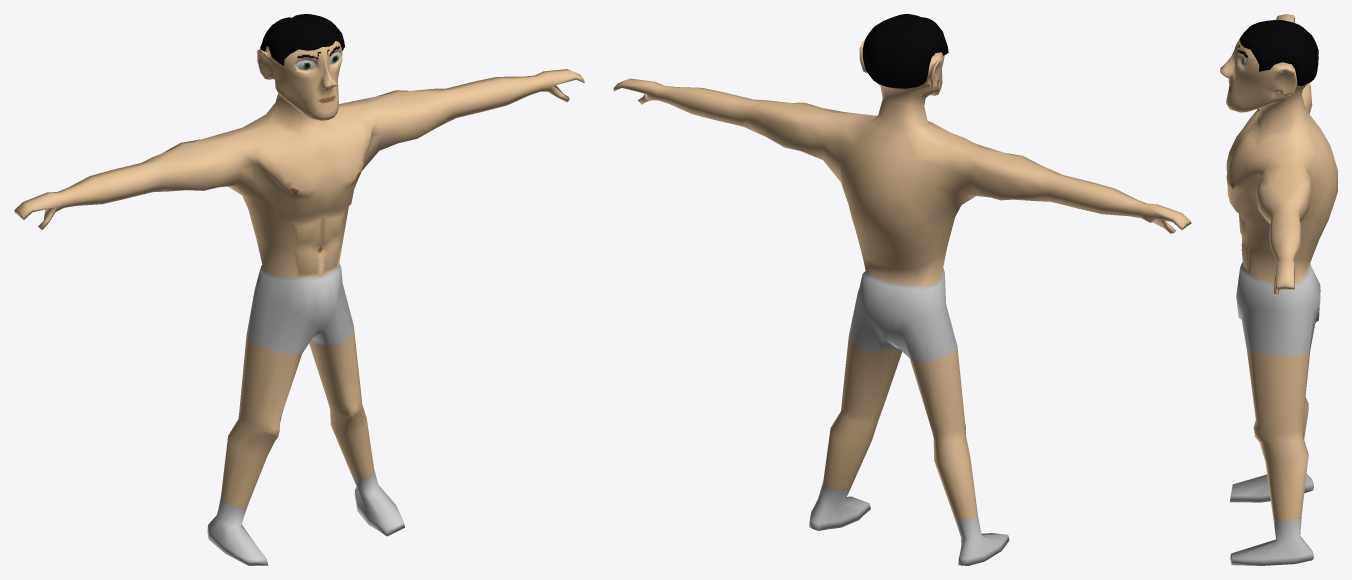
Rendered from Pers.fbx.
The picture shows the model from 3 angles, left to right: view 1: azimuth 30°, elevation 25°; view 2: azimuth 150°, elevation 25°; view 3: azimuth 270°, elevation 25°; orthographic projection. The views are drawn at different scales.
Parts seen in each view (by area): view 1: Bodey, Hair; view 2: Bodey, Hair; view 3: Bodey, Hair.
Boxes of the visible parts, <box> form: Bodey: <box>14,41,584,565</box>; Hair: <box>260,14,344,65</box>; Bodey: <box>613,41,1191,565</box>; Hair: <box>862,14,948,88</box>; Bodey: <box>1220,14,1337,565</box>; Hair: <box>1239,20,1318,85</box>.
Size of the model in its own units: 895 by 784 by 165.
Materials: 1 (1 with a texture image).
